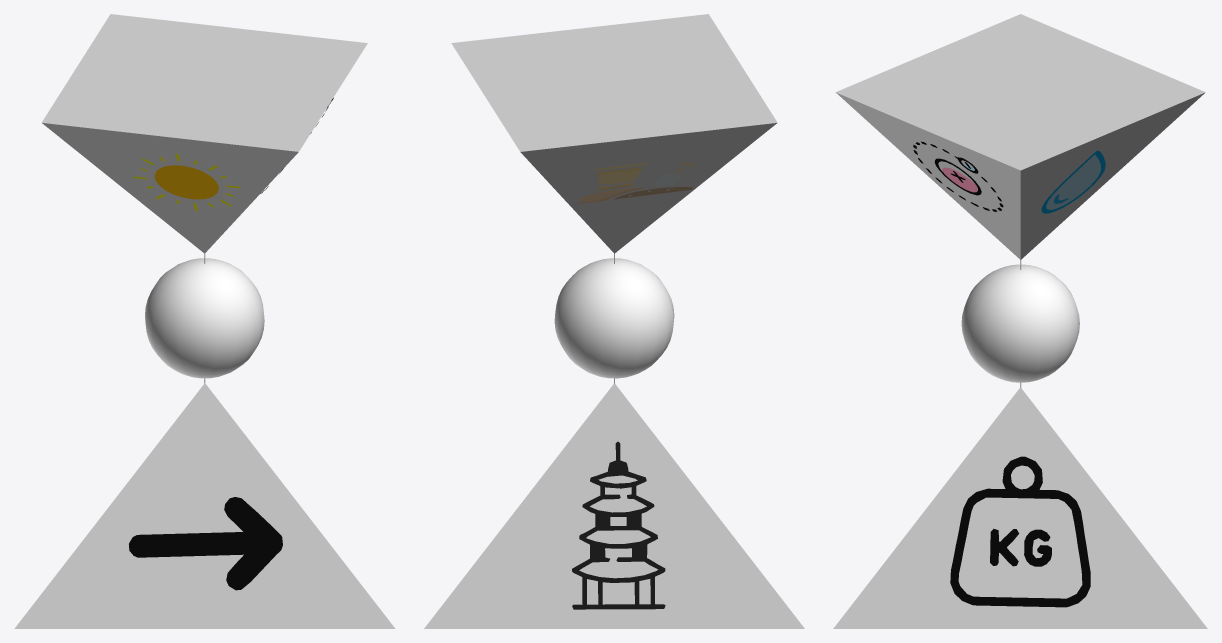
File: asset.gltf
3 renders of one model, left to right at view 1: azimuth 30°, elevation 25°; view 2: azimuth 150°, elevation 25°; view 3: azimuth 270°, elevation 25°, orthographic.
Visible parts, largest first — view 1: pCone1, pCone2, pSphere1, arrow, sun1; view 2: pCone1, pCone3, pSphere1, top1, sand2; view 3: pCone1, pCone2, pSphere1, weight, water, electron.
Part boxes in pixels (bbox=[...]): pCone1: bbox=[41, 14, 367, 253]; pCone2: bbox=[15, 383, 395, 628]; pSphere1: bbox=[145, 258, 264, 378]; arrow: bbox=[129, 497, 282, 590]; sun1: bbox=[133, 153, 240, 210]; pCone1: bbox=[451, 14, 777, 253]; pCone3: bbox=[424, 383, 804, 628]; pSphere1: bbox=[554, 258, 674, 378]; top1: bbox=[572, 441, 665, 609]; sand2: bbox=[578, 162, 694, 203]; pCone1: bbox=[835, 14, 1205, 259]; pCone2: bbox=[833, 387, 1206, 628]; pSphere1: bbox=[961, 264, 1079, 382]; weight: bbox=[950, 456, 1090, 607]; water: bbox=[1041, 150, 1105, 213]; electron: bbox=[913, 141, 1003, 211].
Size of the model in its own units: 0.065 by 0.0877 by 0.0607.
